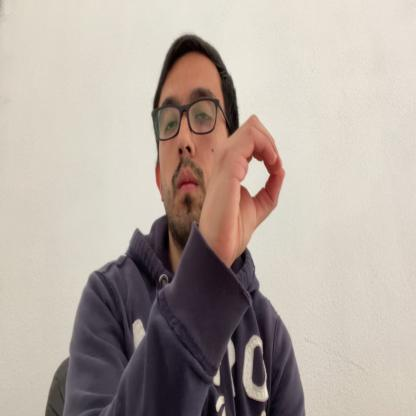O: (204, 114, 283, 258)
